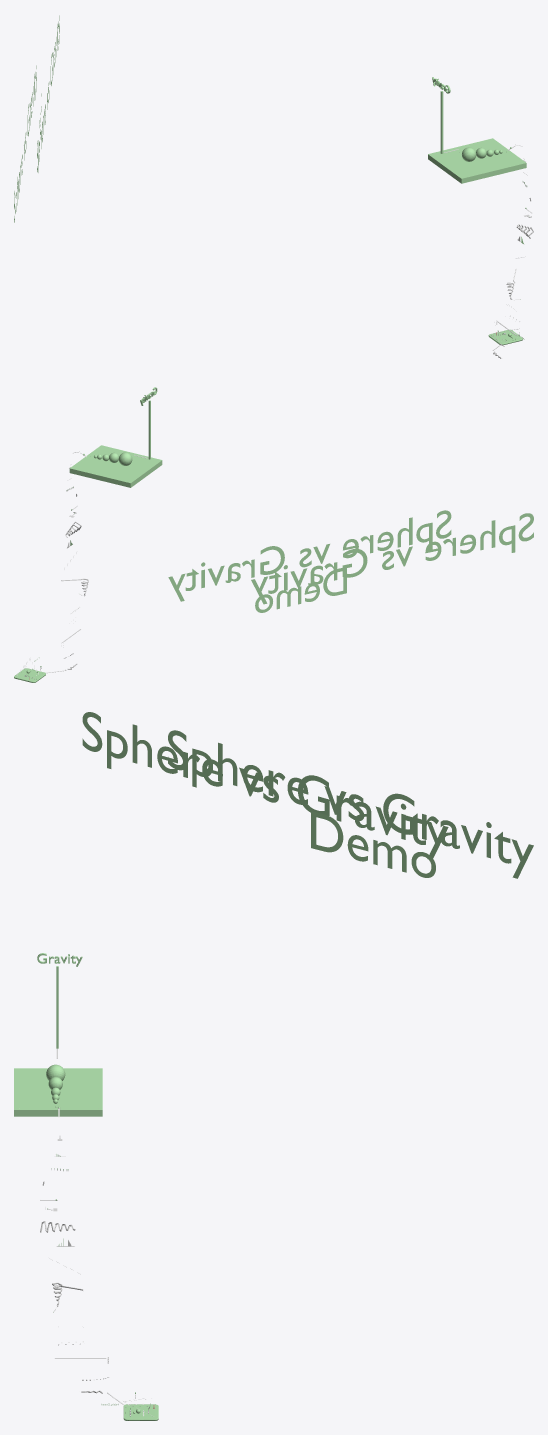
The model's file is pvc.glb.
3 views of the same model, one above another, from view 1: azimuth 30°, elevation 25°; view 2: azimuth 150°, elevation 25°; view 3: azimuth 270°, elevation 25° (orthographic). The views are drawn at different scales.
Visible parts, largest first — view 1: kaabazezedsdsdsdzergrey, kaaba.002, kaaba.001; view 2: kaaba.002, kaaba.001, kaabazezedsdsdsdzergrey; view 3: kaaba.002, kaabazezedsdsdsdzergrey, kaaba.001.
Part boxes in pixels (left/top/right/bottom): kaabazezedsdsdsdzergrey: left=428, top=138, right=526, bottom=183; kaaba.002: left=37, top=15, right=59, bottom=172; kaaba.001: left=14, top=65, right=36, bottom=222; kaaba.002: left=168, top=510, right=451, bottom=612; kaaba.001: left=251, top=513, right=533, bottom=604; kaabazezedsdsdsdzergrey: left=69, top=445, right=162, bottom=487; kaaba.002: left=168, top=730, right=533, bottom=878; kaabazezedsdsdsdzergrey: left=14, top=1068, right=102, bottom=1116; kaaba.001: left=82, top=712, right=448, bottom=858.
Bounding box in the file's own units: 1331 × 734 × 867.
